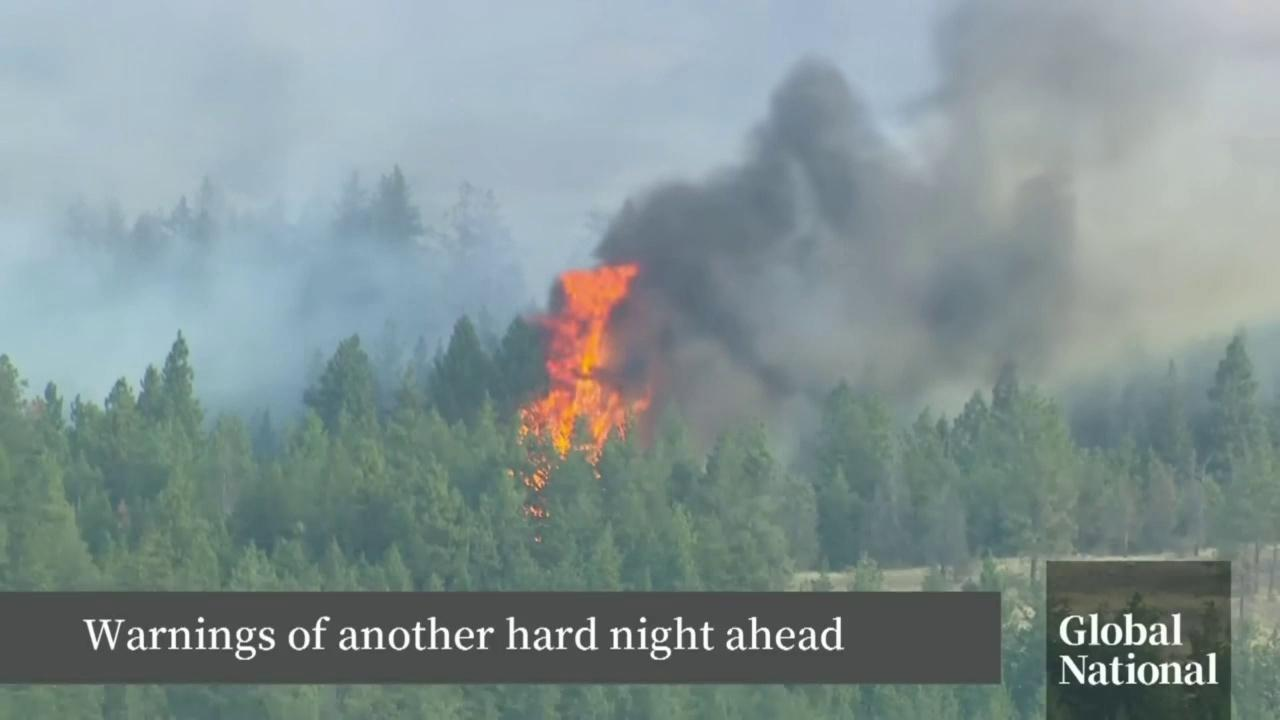fire: (522, 258, 656, 531)
smoke: (0, 0, 1280, 477)
